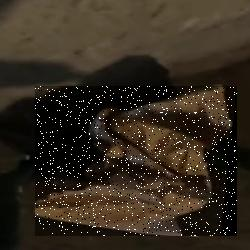restaffald: (35, 86, 237, 236)
